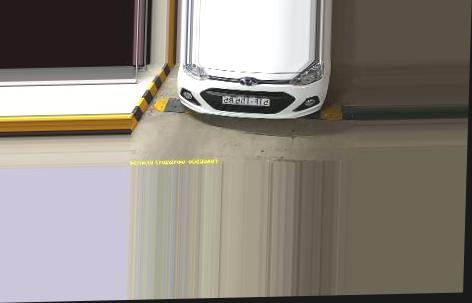License_Plate: (220, 92, 275, 108)
